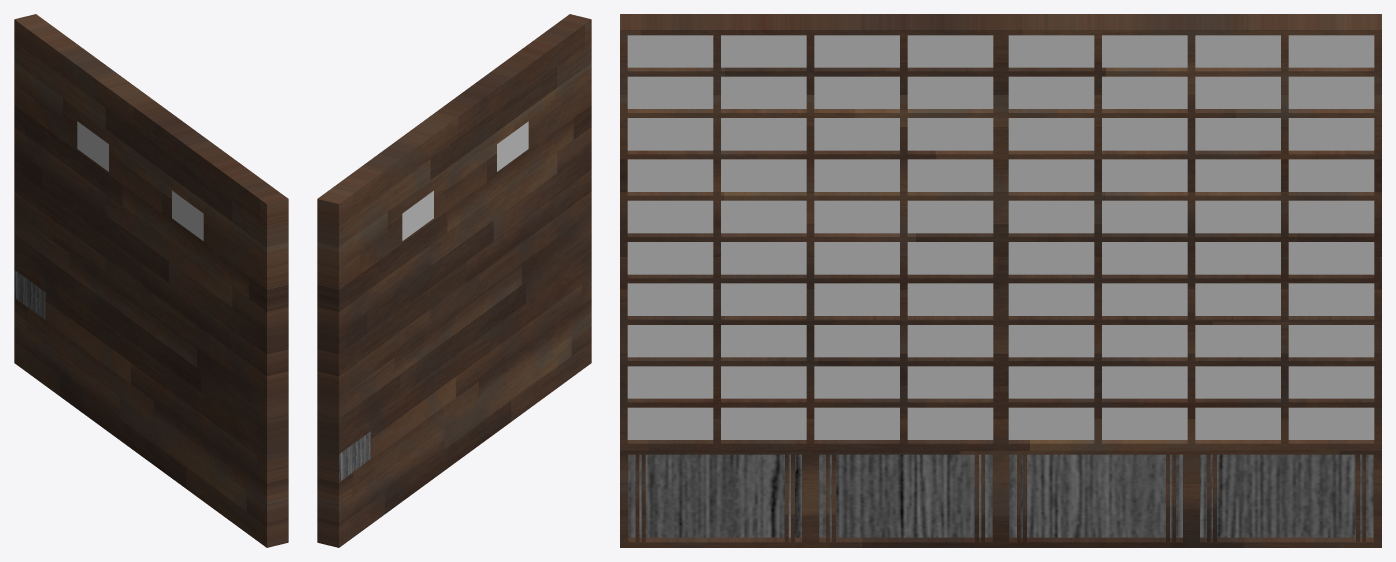
Rendered from Wall_05.fbx.
3 renders of one model, left to right at view 1: azimuth 30°, elevation 25°; view 2: azimuth 150°, elevation 25°; view 3: azimuth 270°, elevation 25°, orthographic. The views are drawn at different scales.
Parts seen in each view (by area): view 1: Wall_5; view 2: Wall_5; view 3: Wall_5.
Part boxes in pixels (x1,y1,x2,y2): Wall_5: [14, 14, 288, 547]; Wall_5: [317, 14, 591, 547]; Wall_5: [620, 14, 1381, 547].
Bounding box in the file's own units: 20 × 300 × 400.
